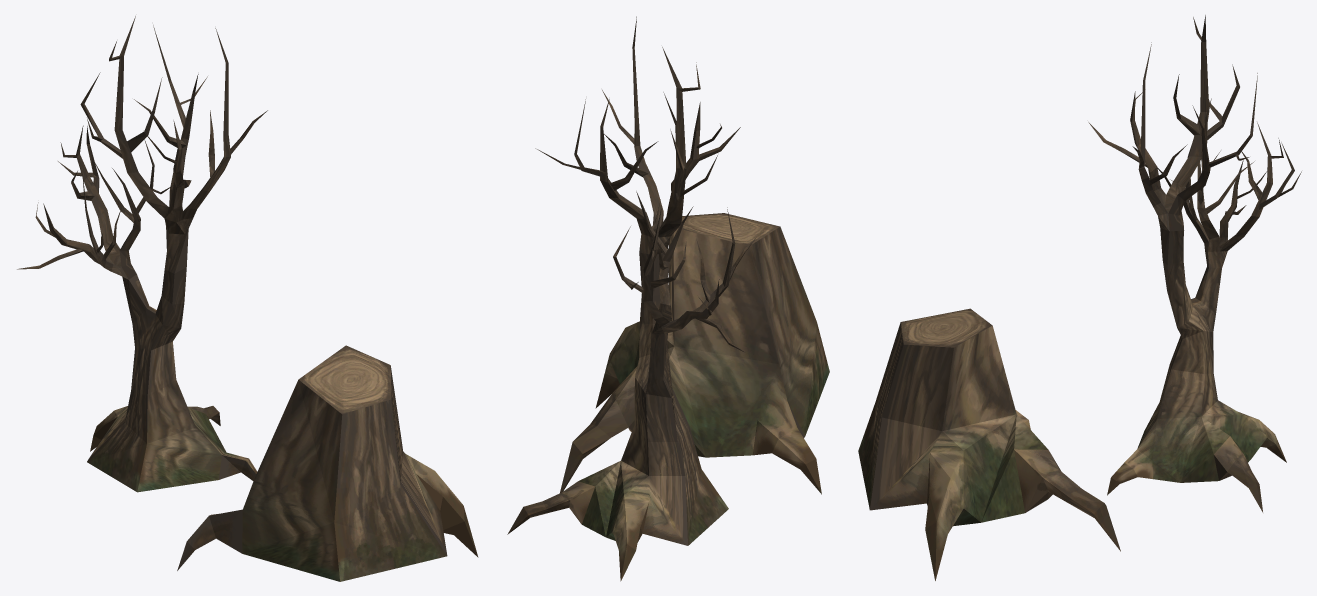
Rendered from plants_tall_tree_trunks206.fbx.
3 views of the same model, side by side, from view 1: azimuth 30°, elevation 25°; view 2: azimuth 150°, elevation 25°; view 3: azimuth 270°, elevation 25° (orthographic). The views are drawn at different scales.
Visible parts, largest first — view 1: obj0.157; view 2: obj0.157; view 3: obj0.157.
Boxes of the visible parts, box(x1,y1,x2,y2) form: obj0.157: box(17, 16, 478, 581); obj0.157: box(507, 16, 829, 581); obj0.157: box(858, 15, 1301, 580).
Bounding box in the file's own units: 6.33 × 9.81 × 8.36.
